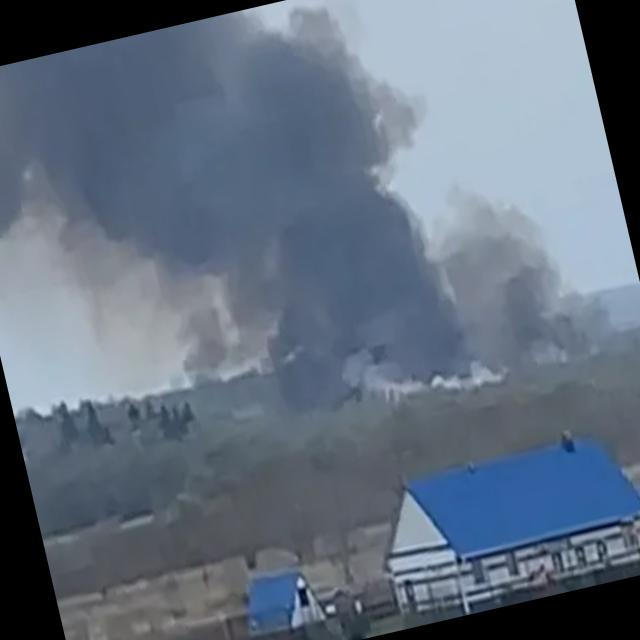Smoke: (0, 0, 613, 480)
